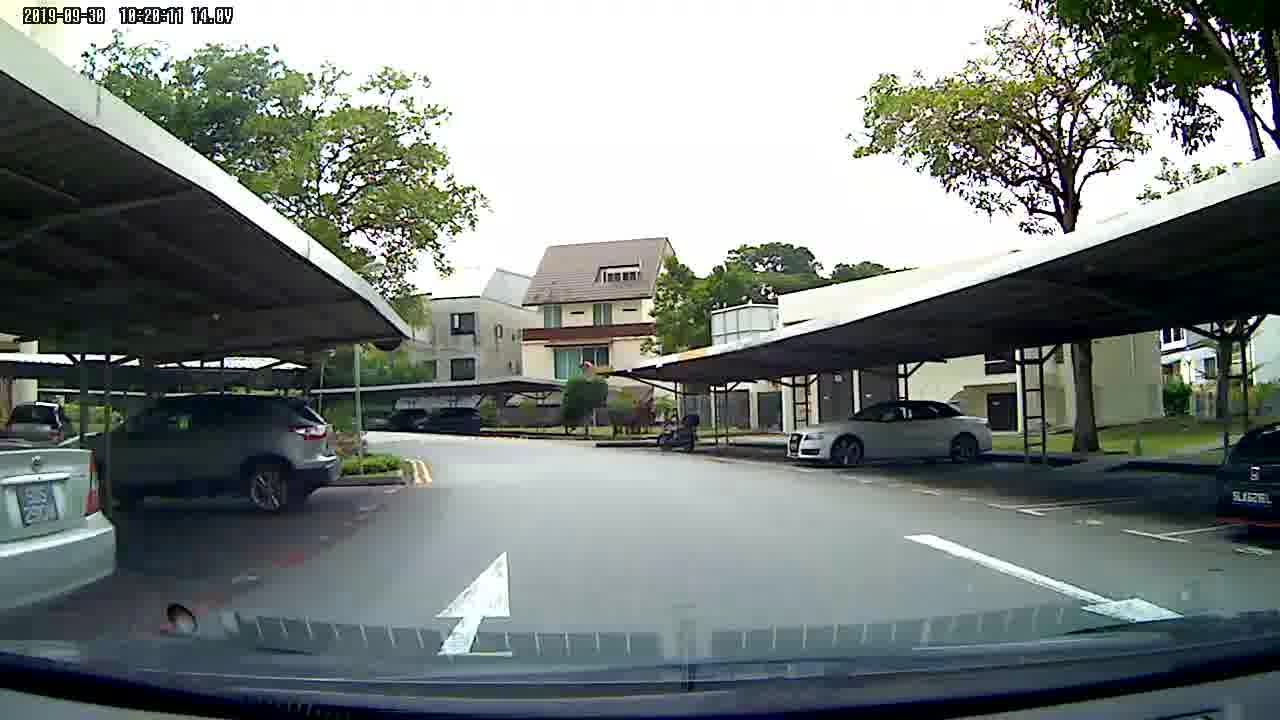car: (64, 381, 350, 525), (1, 446, 137, 634), (778, 396, 1000, 481), (1214, 411, 1280, 528), (8, 396, 72, 444)
